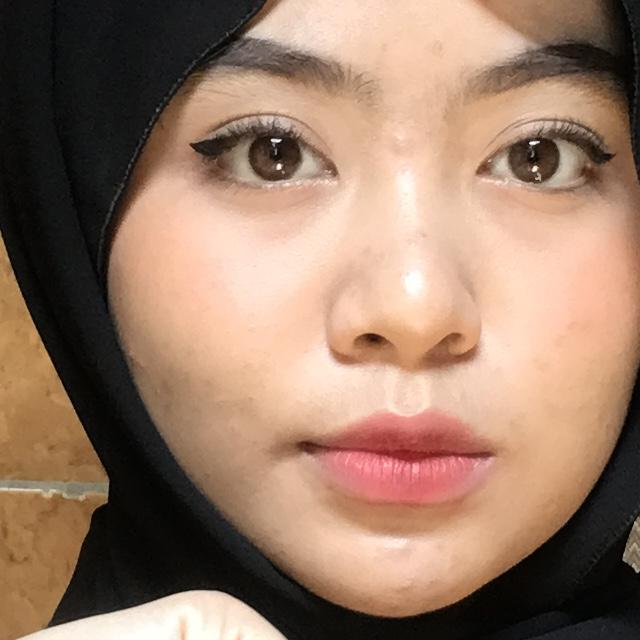sedih: (0, 356, 430, 640)
